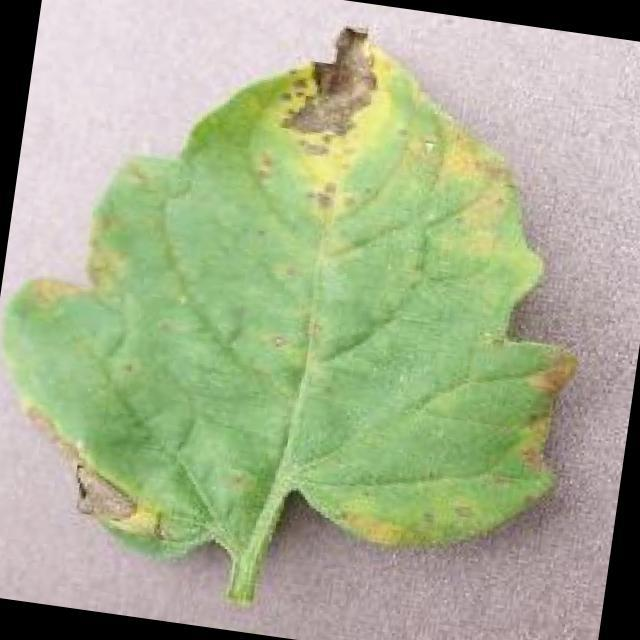Tomato Septoria spot leaf: (0, 0, 623, 617)
